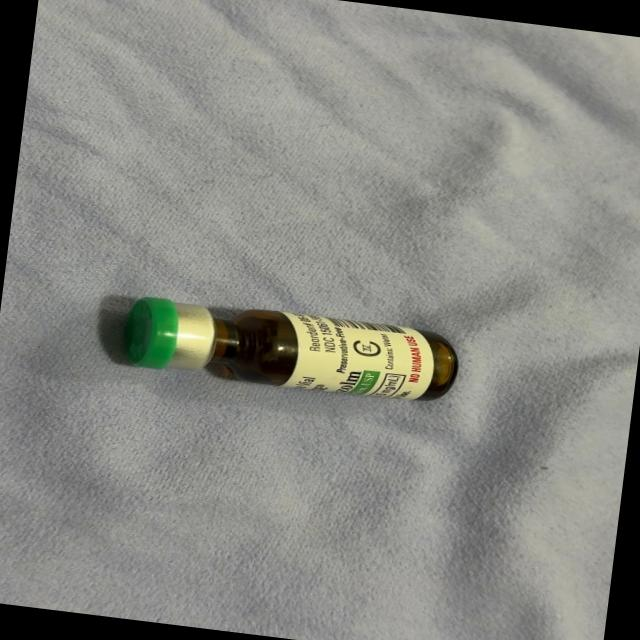midazolm: (124, 294, 456, 406)
